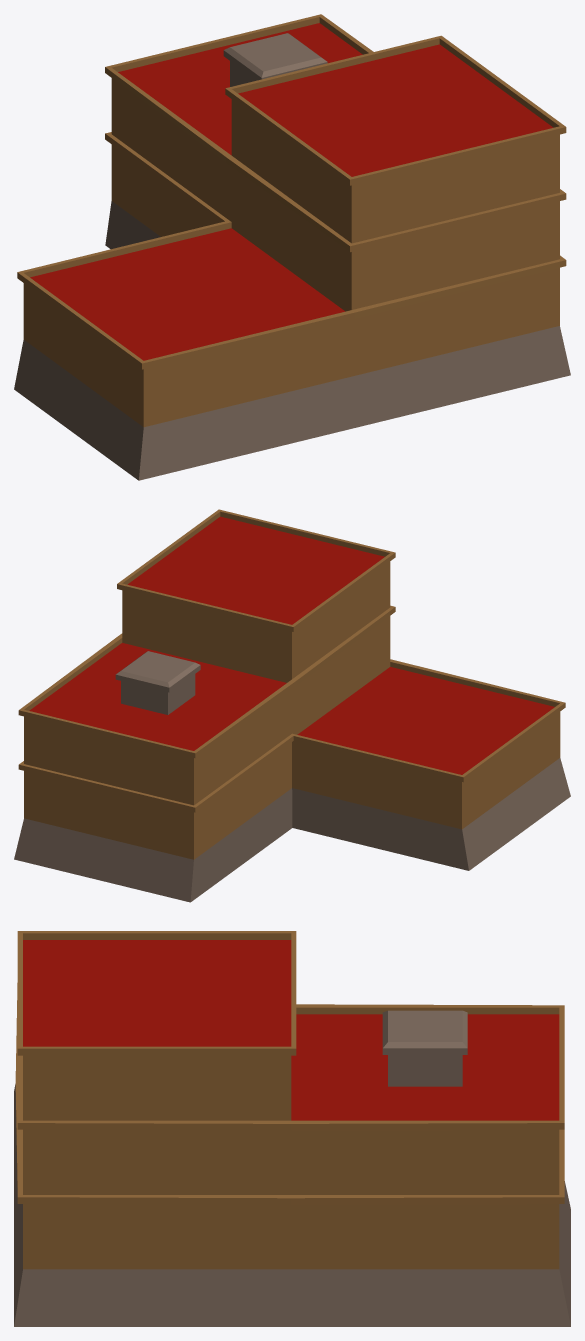
The model's file is house [3].FBX.
3 views of the same model, one above another, from view 1: azimuth 30°, elevation 25°; view 2: azimuth 150°, elevation 25°; view 3: azimuth 270°, elevation 25° (orthographic). The views are drawn at different scales.
Parts seen in each view (by area): view 1: Box001; view 2: Box001; view 3: Box001.
Part boxes in pixels (box(x1,y1,x2,y2)): Box001: box(14, 14, 570, 480); Box001: box(14, 509, 570, 902); Box001: box(14, 931, 570, 1326).
Bounding box in the file's own units: 147 × 80.66 × 147.
